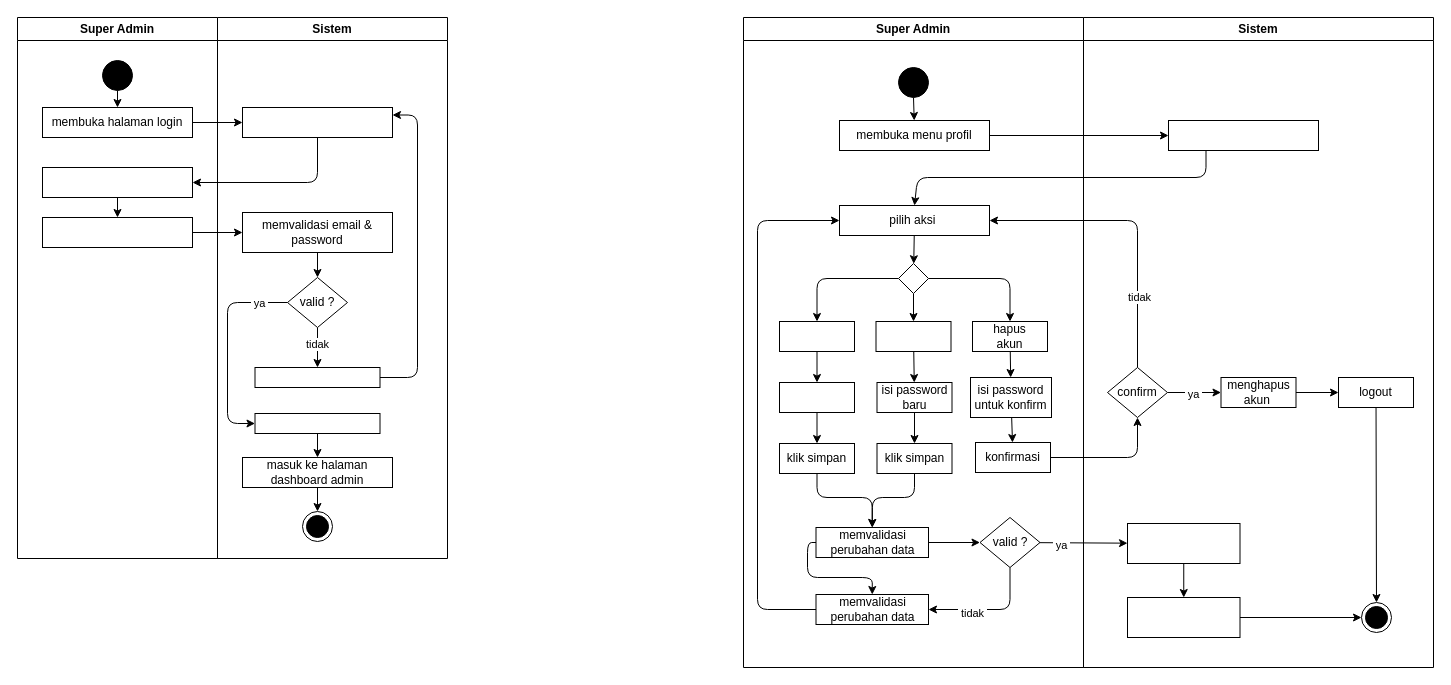
Some shapes in this 1451 by 685 pixel diagram are drawn without their labels. The shapes that lost their labels are listed below. From the top down, each one's centre as x and y in pixels, then its label:
the point at 317,122: menampilkan form login
the point at 1243,135: menampilkan data akun
the point at 117,182: mengisi email & password
the point at 117,232: klik login
the point at 816,336: ubah data akun
the point at 913,336: ubah password
the point at 317,377: tampilkan notif invalid
the point at 816,397: isi data baru
the point at 317,423: login berhasil
the point at 1183,543: menyimpan perubahan data
the point at 1183,617: menampilkan notif sukses
